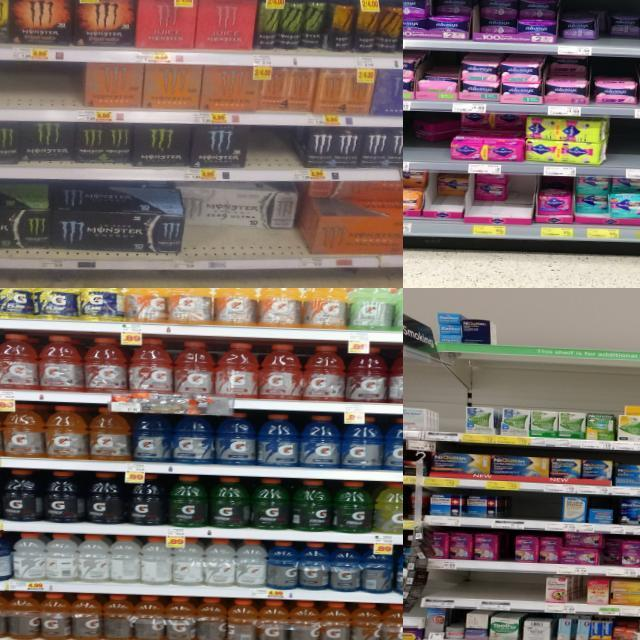empty: (0, 60, 77, 122), (248, 126, 298, 182), (476, 571, 544, 611), (506, 492, 562, 530), (610, 117, 640, 180), (428, 569, 473, 609), (436, 402, 465, 441), (500, 529, 515, 570)
